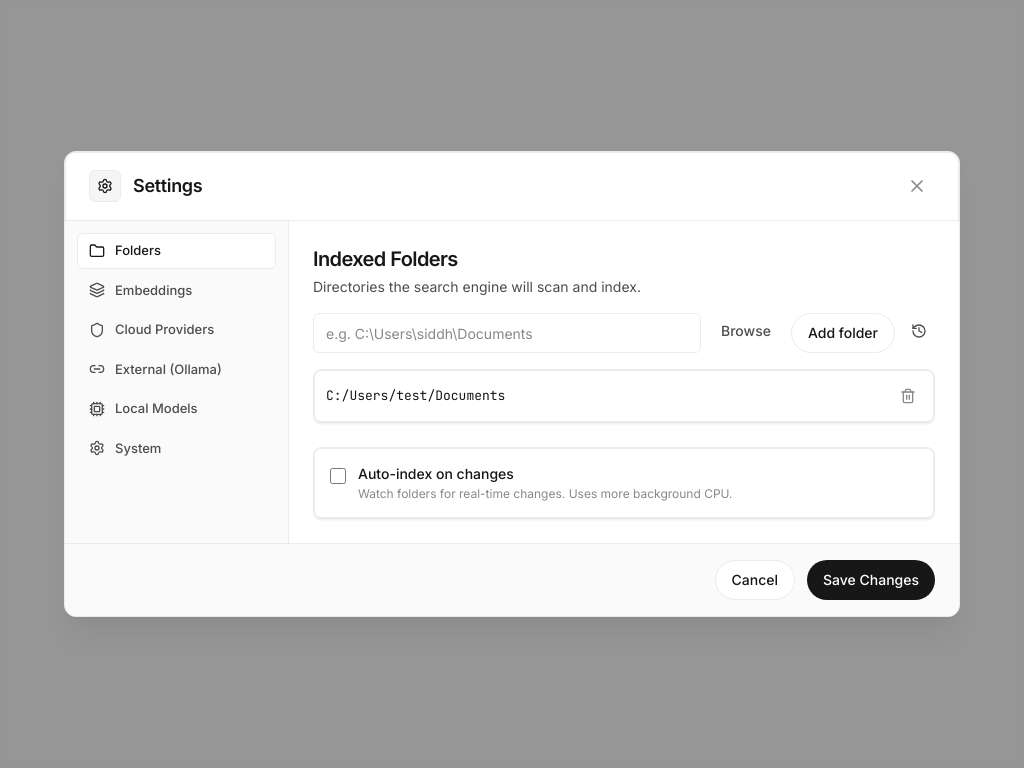
it: SettingsModal Component › shows success toast after a successful save
This screenshot has width=1024, height=768.
Expected: the text "C:/Users/test/Documents" is shown, [326,386,505,406]
Click the button "Save Changes": click(871, 580) [807,560,935,600]
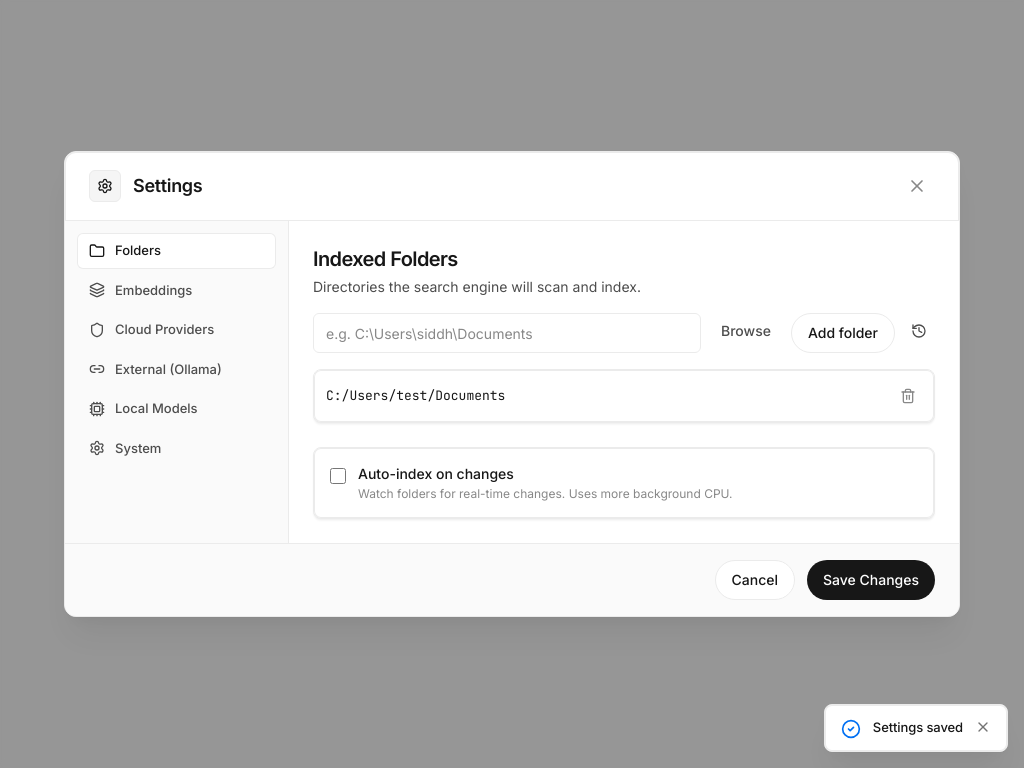
Result: the text "Settings saved" is shown at [873,717,963,738]
